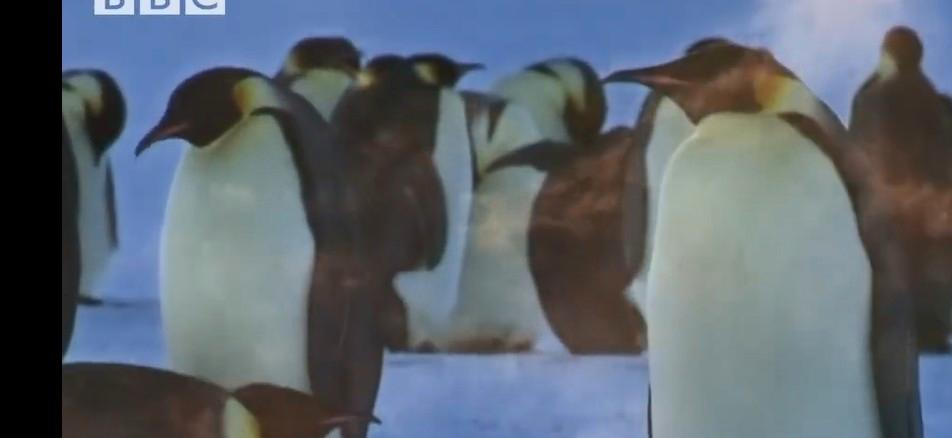Emperor Penguin: (554, 38, 952, 438), (123, 52, 381, 367), (56, 358, 392, 438)
